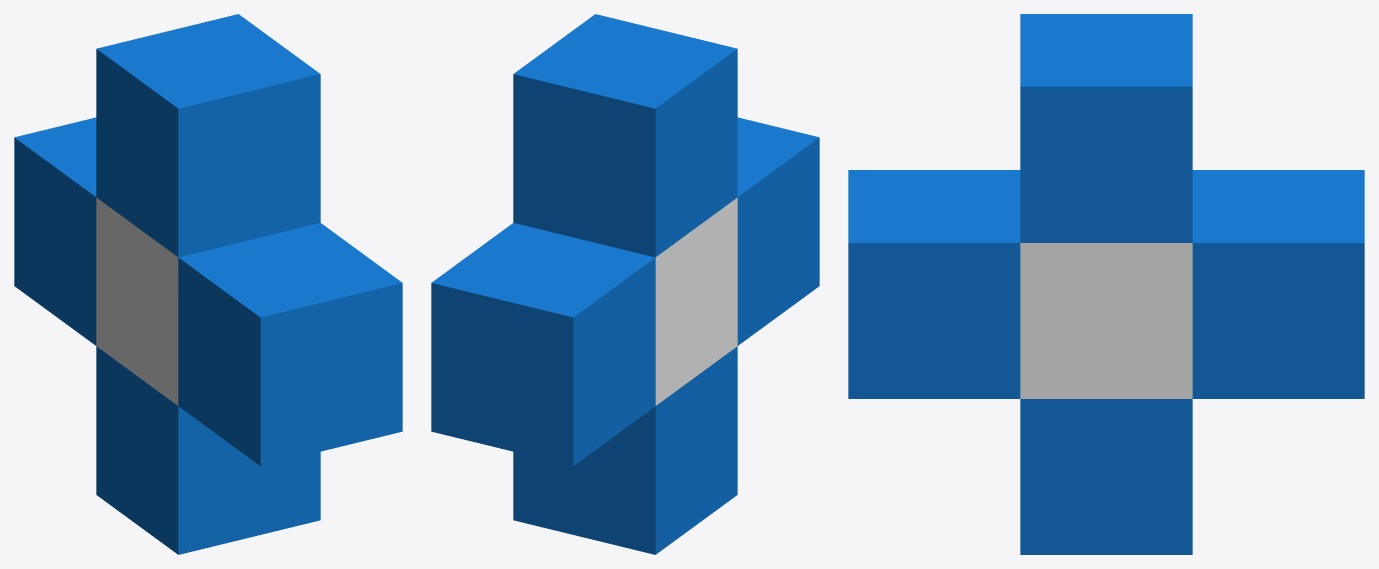
File: AA_Proj_BombLit.fbx
The picture shows the model from 3 angles, left to right: view 1: azimuth 30°, elevation 25°; view 2: azimuth 150°, elevation 25°; view 3: azimuth 270°, elevation 25°; orthographic projection. The views are drawn at different scales.
Parts seen in each view (by area): view 1: Cube.064, Cube.080, Cube.111, Cube.078, Cube.079; view 2: Cube.078, Cube.080, Cube.111, Cube.064, Cube.079; view 3: Cube.080, Cube.078, Cube.064, Cube.111, Cube.079.
Boxes of the visible parts, x1=… form: Cube.064: x1=178, y1=223, x2=402, y2=466; Cube.080: x1=96, y1=14, x2=320, y2=257; Cube.111: x1=96, y1=346, x2=320, y2=554; Cube.078: x1=14, y1=117, x2=96, y2=345; Cube.079: x1=96, y1=197, x2=178, y2=405; Cube.078: x1=431, y1=223, x2=655, y2=466; Cube.080: x1=513, y1=14, x2=737, y2=257; Cube.111: x1=513, y1=346, x2=737, y2=554; Cube.064: x1=737, y1=117, x2=819, y2=345; Cube.079: x1=655, y1=197, x2=737, y2=405; Cube.080: x1=1020, y1=14, x2=1192, y2=242; Cube.078: x1=1192, y1=170, x2=1364, y2=398; Cube.064: x1=848, y1=170, x2=1020, y2=398; Cube.111: x1=1020, y1=399, x2=1192, y2=554; Cube.079: x1=1020, y1=243, x2=1192, y2=398.
Bounding box in the file's own units: 200 × 600 × 600.
